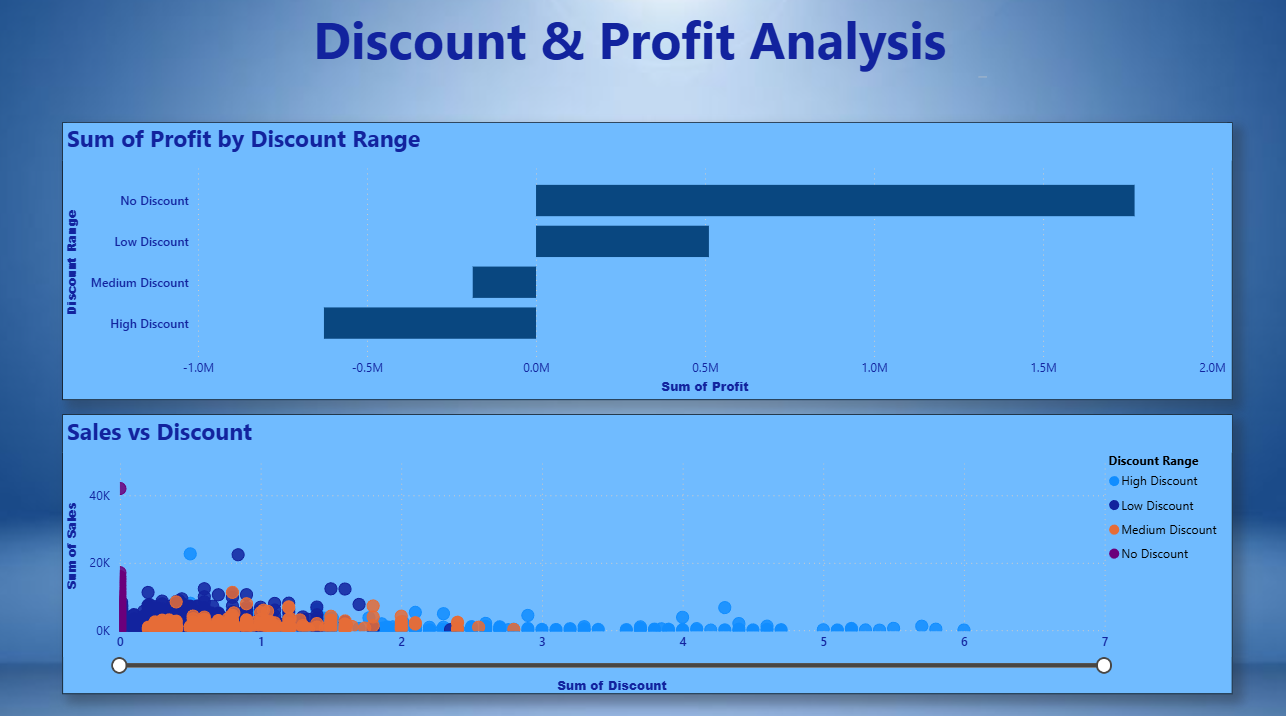

Layout of this report page (visuals, bound fields, positions):
{"tool":"powerbi","page":{"name":"Discount & Profit Analysis","canvas":[1280,720],"ordinal":3},"visuals":[{"type":"barChart","fields":{"Y":["Sum(superstore_dataset.Profit)"],"Category":["superstore_dataset.Discount Range"]},"box":[68,134,1154,274],"z":0},{"type":"scatterChart","title":"Sales vs Discount","fields":{"X":["Sum(superstore_dataset.Discount)"],"Y":["Sum(superstore_dataset.Sales)"],"Series":["superstore_dataset.Discount Range"],"Category":["superstore_dataset.Product ID"]},"box":[68,422,1154,276],"z":1000},{"type":"textbox","title":"Discount & Profit Analysis","box":[310,16,674,78],"z":2000}]}

Visuals, with their boxes in screenshot pixels (x1, y1, x2, y2), scaled from the page's 1280x720 canvas onto the 1286x716 screenshot:
barChart - Sum(superstore_dataset.Profit) x superstore_dataset.Discount Range: locate(68, 133, 1228, 406)
"Sales vs Discount" scatterChart: locate(68, 420, 1228, 694)
"Discount & Profit Analysis" textbox: locate(311, 16, 989, 93)
